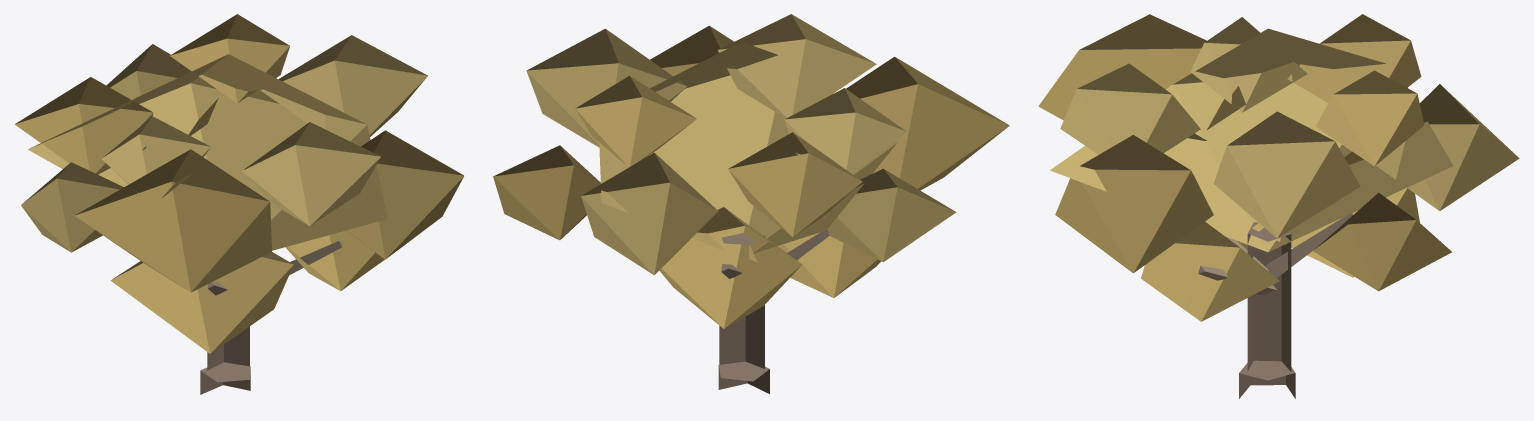
The model's file is tree.temp.willow__autumn.glb.
3 renders of one model, left to right at view 1: azimuth 30°, elevation 25°; view 2: azimuth 150°, elevation 25°; view 3: azimuth 270°, elevation 25°, orthographic. The views are drawn at different scales.
Visible parts, largest first — view 1: tree.temp.willow__autumn; view 2: tree.temp.willow__autumn; view 3: tree.temp.willow__autumn.
Boxes of the visible parts, left/top/right/bottom form: tree.temp.willow__autumn: left=15, top=14, right=463, bottom=394; tree.temp.willow__autumn: left=493, top=14, right=1009, bottom=393; tree.temp.willow__autumn: left=1038, top=14, right=1519, bottom=398.
Bounding box in the file's own units: 12.56 × 10.24 × 12.18.
